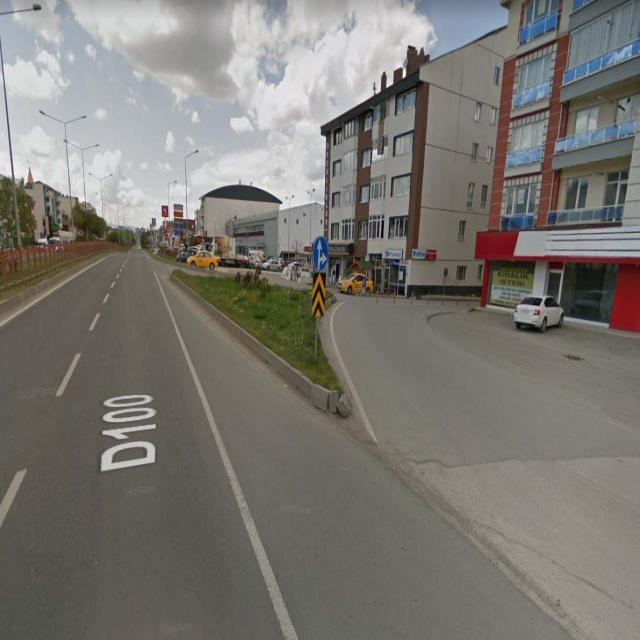ilerisag: (312, 236, 328, 273)
